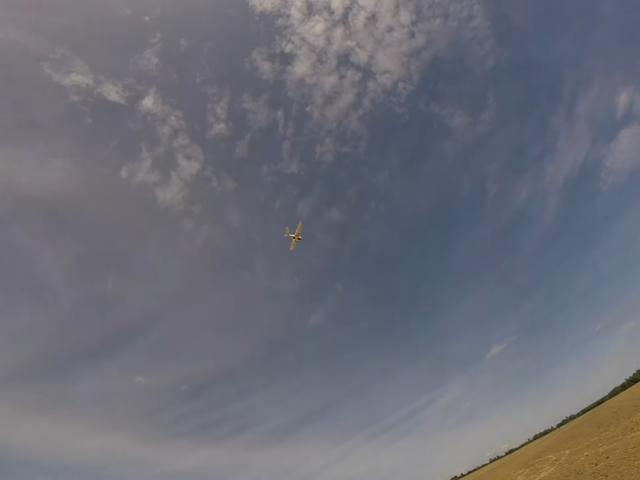plane: (283, 217, 303, 252)
